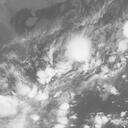cyclone: (58, 27, 99, 64)
